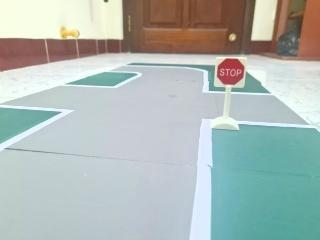stop: (211, 55, 249, 89)
